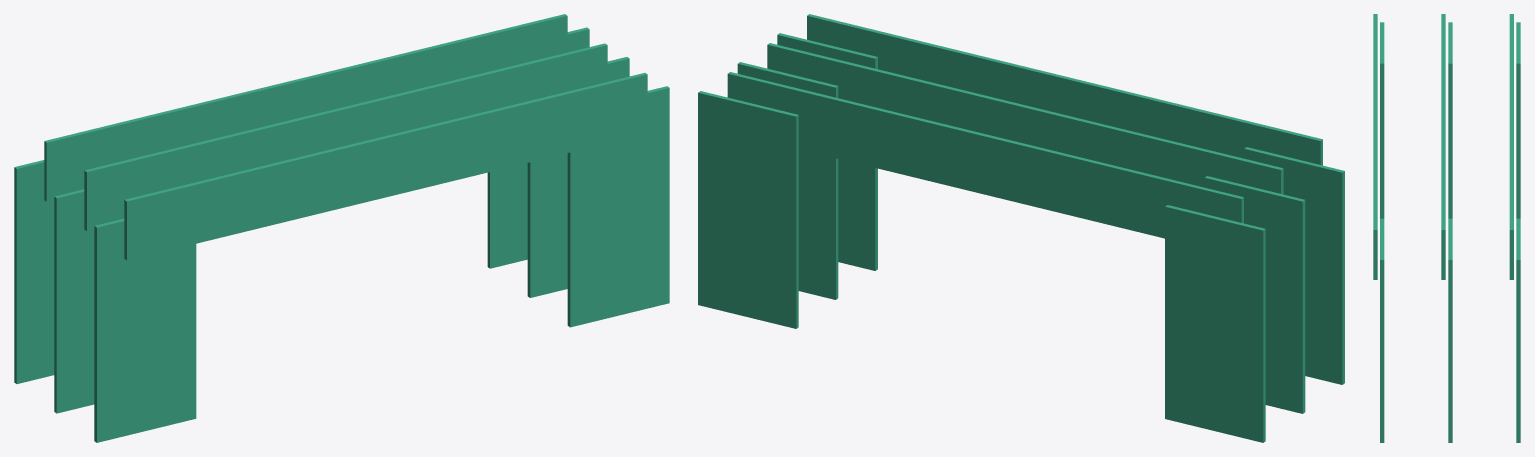
Rendered from ST_LegBorder.fbx.
The picture shows the model from 3 angles, left to right: view 1: azimuth 30°, elevation 25°; view 2: azimuth 150°, elevation 25°; view 3: azimuth 270°, elevation 25°; orthographic projection. The views are drawn at different scales.
Visible parts, largest first — view 1: ST_Border3, ST_Border1, ST_Border2, ST_Leg_L3, ST_Leg_R3, ST_Leg_L1, ST_Leg_L2, ST_Leg_R2, ST_Leg_R1; view 2: ST_Border1, ST_Leg_R1, ST_Leg_L1, ST_Border2, ST_Border3, ST_Leg_L2, ST_Leg_L3, ST_Leg_R2, ST_Leg_R3; view 3: ST_Border1, ST_Border2, ST_Border3, ST_Leg_R1, ST_Leg_R2, ST_Leg_R3, ST_Leg_L3, ST_Leg_L2, ST_Leg_L1.
Part boxes in pixels (x1,y1,x2,y2): ST_Border3: [124, 73, 647, 260]; ST_Border1: [44, 14, 567, 201]; ST_Border2: [84, 43, 607, 230]; ST_Leg_L3: [94, 218, 196, 442]; ST_Leg_R3: [567, 86, 669, 327]; ST_Leg_L1: [14, 160, 54, 383]; ST_Leg_L2: [54, 189, 94, 413]; ST_Leg_R2: [527, 57, 629, 297]; ST_Leg_R1: [487, 27, 589, 268]; ST_Border1: [727, 72, 1243, 238]; ST_Leg_R1: [698, 91, 798, 328]; ST_Leg_L1: [1165, 205, 1265, 442]; ST_Border2: [767, 43, 1283, 194]; ST_Border3: [807, 14, 1322, 165]; ST_Leg_L2: [1204, 176, 1305, 413]; ST_Leg_L3: [1244, 147, 1344, 384]; ST_Leg_R2: [737, 62, 838, 299]; ST_Leg_R3: [777, 33, 877, 270]; ST_Border1: [1509, 14, 1513, 279]; ST_Border2: [1441, 14, 1445, 279]; ST_Border3: [1373, 14, 1377, 279]; ST_Leg_R1: [1516, 218, 1520, 442]; ST_Leg_R2: [1448, 218, 1452, 442]; ST_Leg_R3: [1380, 218, 1384, 442]; ST_Leg_L3: [1380, 22, 1384, 218]; ST_Leg_L2: [1448, 22, 1452, 218]; ST_Leg_L1: [1516, 22, 1520, 218].
Size of the model in its own units: 1320 by 524 by 346.
